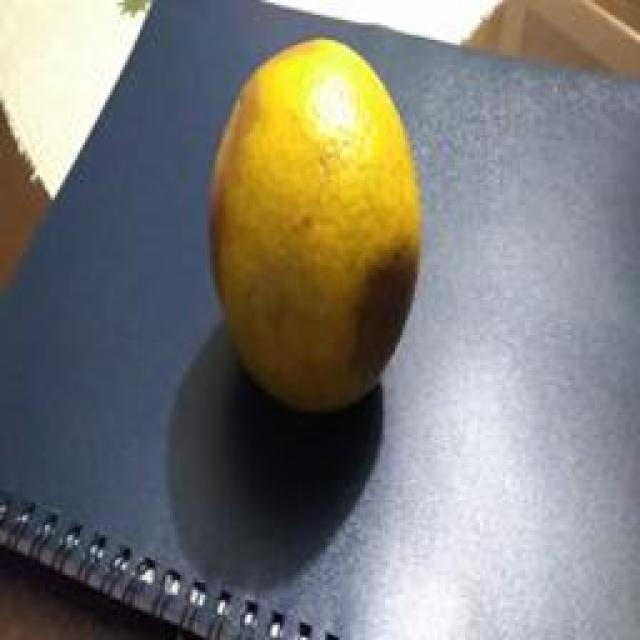Rotten_Orange: (188, 46, 450, 421)
